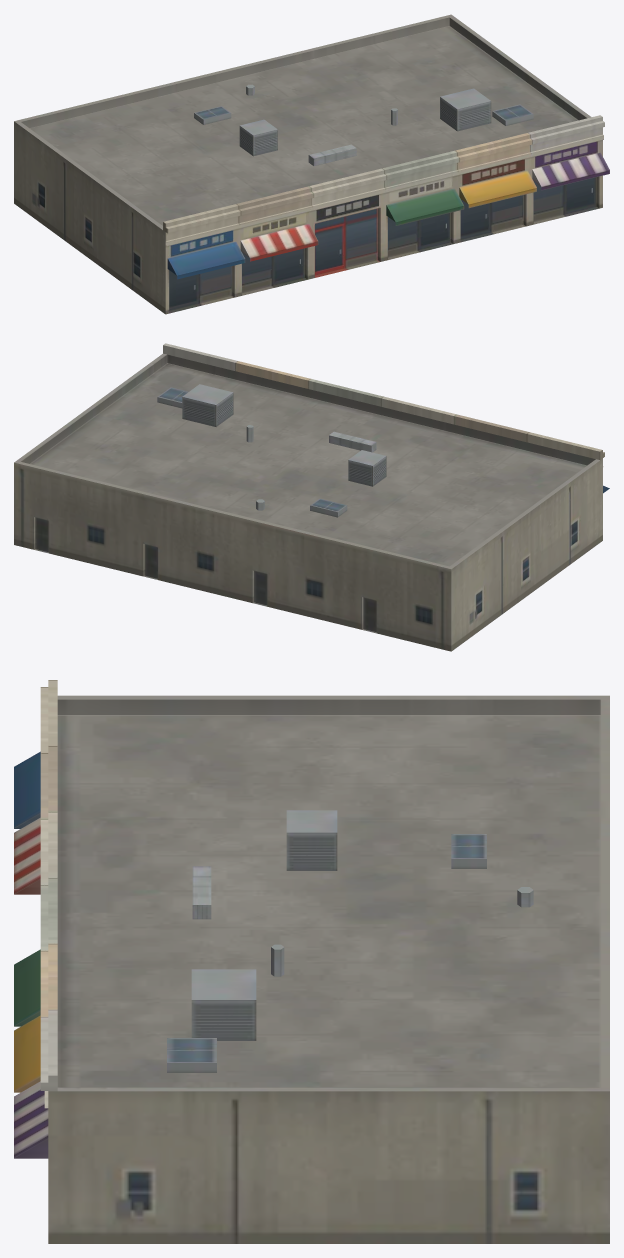
The model's file is sf_lowrise_a.glb.
The picture shows the model from 3 angles, top to bottom: view 1: azimuth 30°, elevation 25°; view 2: azimuth 150°, elevation 25°; view 3: azimuth 270°, elevation 25°; orthographic projection. The views are drawn at different scales.
Parts seen in each view (by area): view 1: sf_lowrise_a; view 2: sf_lowrise_a; view 3: sf_lowrise_a.
Boxes of the visible parts, x1=… form: sf_lowrise_a: x1=14, y1=14, x2=609, y2=314; sf_lowrise_a: x1=14, y1=343, x2=609, y2=651; sf_lowrise_a: x1=14, y1=680, x2=609, y2=1243.
Bounding box in the file's own units: 30 × 6.3 × 19.1.
1 material, 1 textured.
